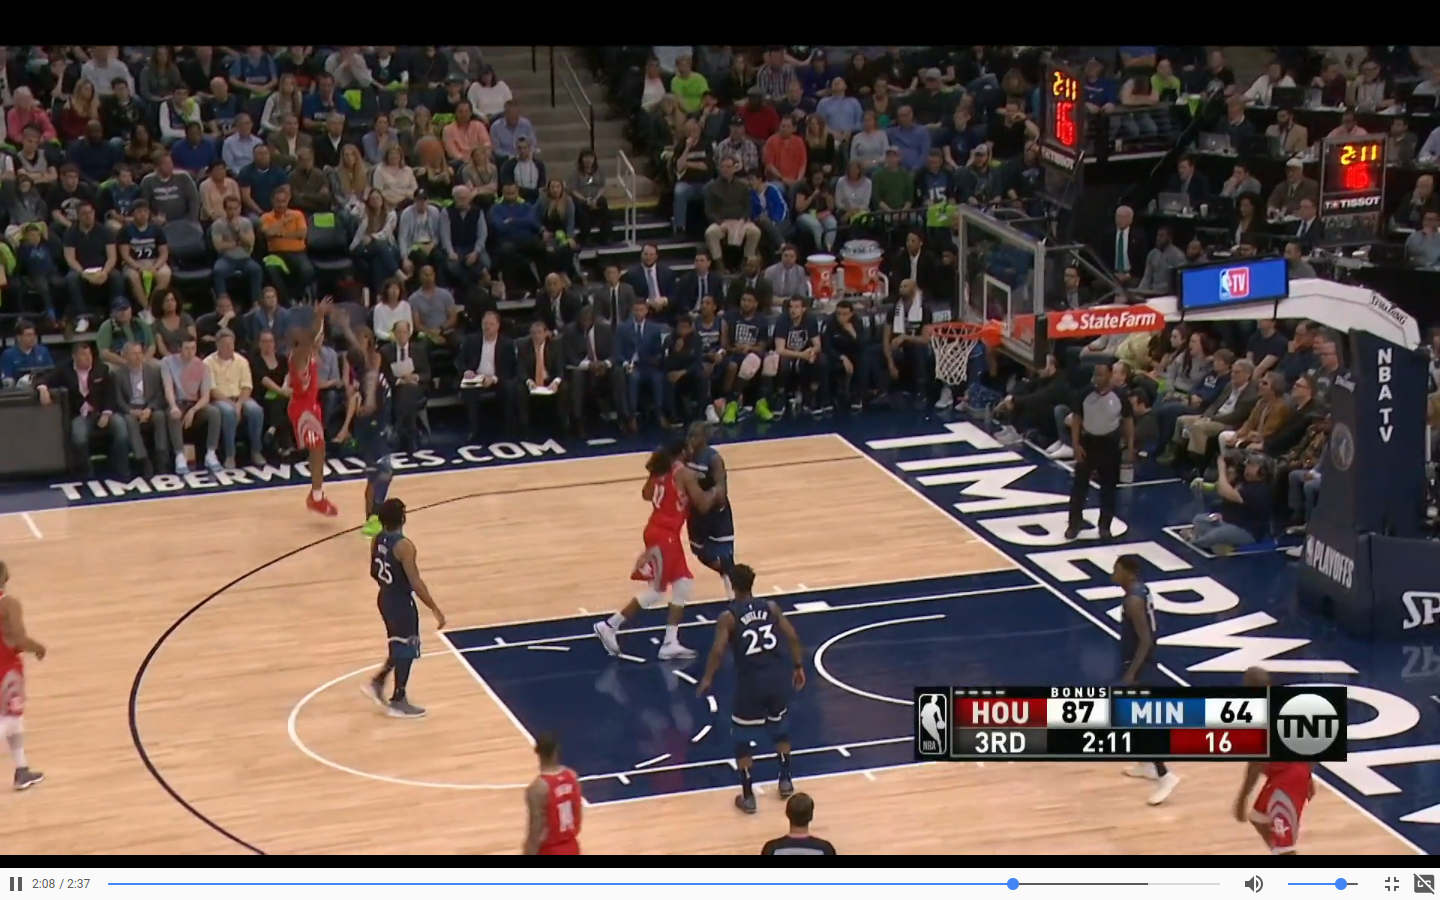ball: (416, 139, 446, 168)
player: (604, 449, 691, 688), (721, 564, 805, 786), (368, 493, 449, 710), (285, 309, 333, 531), (685, 427, 746, 568), (1110, 550, 1172, 684), (347, 333, 394, 508), (520, 729, 588, 850)
referee: (1075, 363, 1128, 541)
